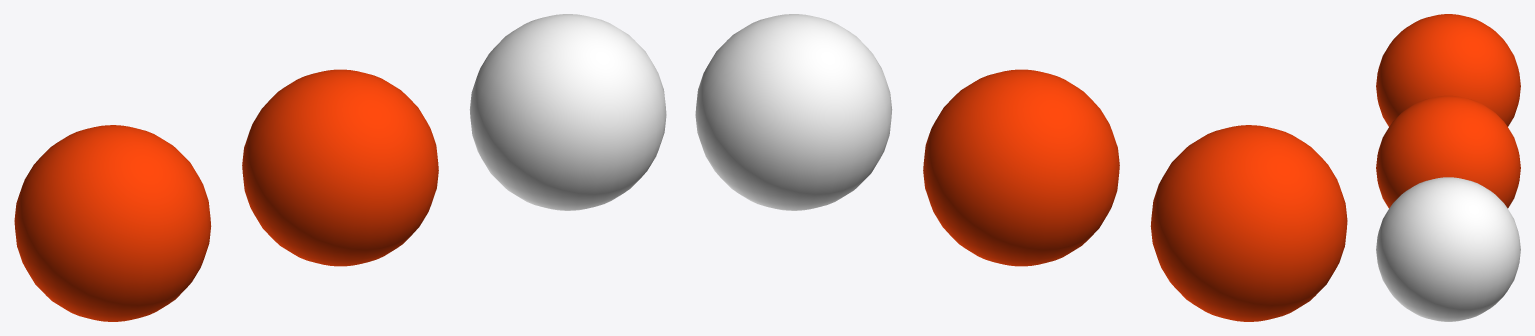
Rendered from MR_Checker.glb.
3 views of the same model, side by side, from view 1: azimuth 30°, elevation 25°; view 2: azimuth 150°, elevation 25°; view 3: azimuth 270°, elevation 25° (orthographic). The views are drawn at different scales.
Visible parts, largest first — view 1: Shared SRGB + linear, MR only / white base, Factors multiply map; view 2: Shared SRGB + linear, MR only / white base, Factors multiply map; view 3: MR only / white base, Factors multiply map, Shared SRGB + linear.
Boxes of the visible parts, left/top/right/bottom form: Shared SRGB + linear: left=14, top=125, right=211, bottom=321; MR only / white base: left=469, top=14, right=666, bottom=210; Factors multiply map: left=242, top=69, right=438, bottom=266; Shared SRGB + linear: left=1150, top=125, right=1347, bottom=321; MR only / white base: left=695, top=14, right=892, bottom=210; Factors multiply map: left=923, top=69, right=1119, bottom=266; MR only / white base: left=1376, top=177, right=1520, bottom=321; Factors multiply map: left=1376, top=95, right=1520, bottom=208; Shared SRGB + linear: left=1376, top=14, right=1520, bottom=126.
Bounding box in the file's own units: 4.4 × 1.2 × 1.2.
3 materials, 2 textured.
